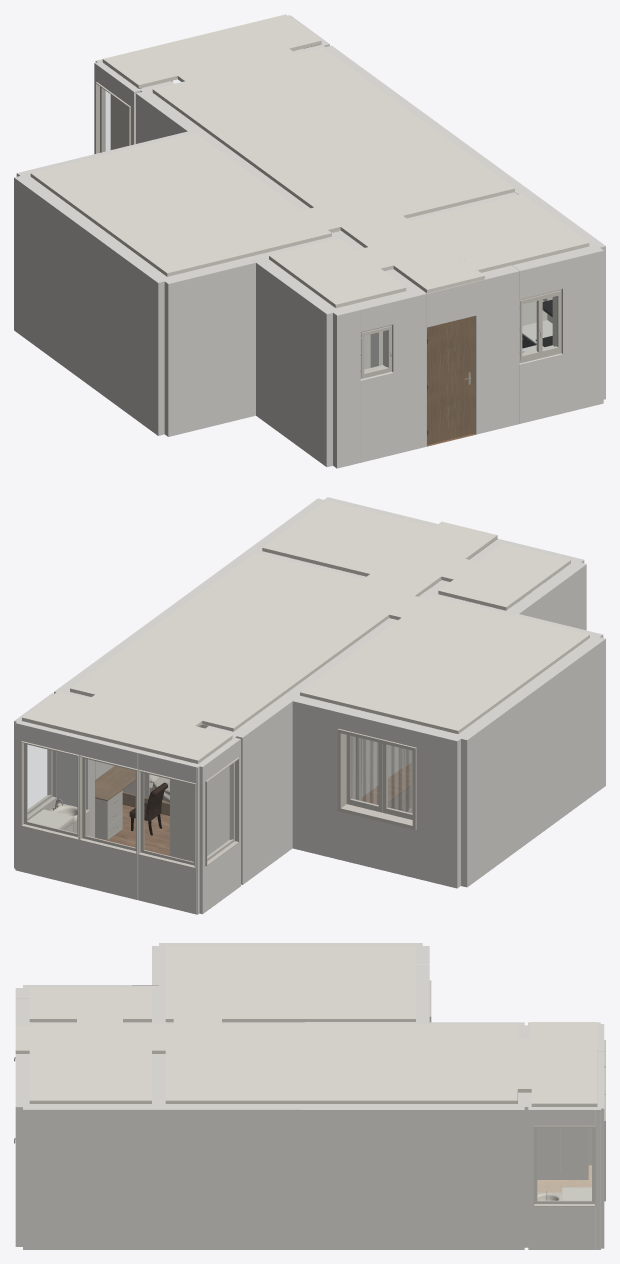
Rendered from apartment-doors-v6.glb.
3 views of the same model, one above another, from view 1: azimuth 30°, elevation 25°; view 2: azimuth 150°, elevation 25°; view 3: azimuth 270°, elevation 25° (orthographic). The views are drawn at different scales.
Parts seen in each view (by area): view 1: Static_bath, Static_master, Ceiling_master, Static_kitchen, Ceiling_second, Ceiling_dining, Ceiling_kitchen, Ceiling_balcony, Static_entry, Ceiling_bath, Ceiling_entry, Static_balcony (+2 smaller); view 2: Static_master, Static_balcony, Ceiling_master, Ceiling_second, Static_second, Ceiling_dining, Ceiling_balcony, Ceiling_kitchen, Ceiling_bath, Static_bath, Ceiling_entry, Static_dining (+1 smaller); view 3: Static_dining, Ceiling_master, Ceiling_second, Static_balcony, Ceiling_dining, Ceiling_kitchen, Ceiling_balcony, Ceiling_bath, Ceiling_entry, Static_kitchen, Static_bath, Static_master (+1 smaller).
Part boxes in pixels (left/top/right/bottom): Static_bath: left=163, top=235, right=426, bottom=468; Static_master: left=14, top=130, right=331, bottom=435; Ceiling_master: left=30, top=133, right=340, bottom=276; Static_kitchen: left=407, top=192, right=603, bottom=434; Ceiling_second: left=152, top=48, right=437, bottom=176; Ceiling_dining: left=268, top=132, right=514, bottom=233; Ceiling_kitchen: left=411, top=194, right=589, bottom=272; Ceiling_balcony: left=102, top=14, right=321, bottom=88; Static_entry: left=346, top=234, right=476, bottom=446; Ceiling_bath: left=269, top=238, right=406, bottom=308; Ceiling_entry: left=345, top=216, right=484, bottom=293; Static_balcony: left=94, top=15, right=329, bottom=153; Static_master: left=287, top=636, right=605, bottom=888; Static_balcony: left=14, top=692, right=240, bottom=914; Ceiling_master: left=300, top=596, right=589, bottom=733; Ceiling_second: left=70, top=607, right=345, bottom=731; Static_second: left=70, top=618, right=401, bottom=884; Ceiling_dining: left=182, top=553, right=418, bottom=649; Ceiling_balcony: left=22, top=692, right=232, bottom=763; Ceiling_kitchen: left=262, top=500, right=433, bottom=576; Ceiling_bath: left=438, top=543, right=570, bottom=610; Static_bath: left=423, top=538, right=603, bottom=637; Ceiling_entry: left=363, top=521, right=497, bottom=595; Static_dining: left=54, top=498, right=429, bottom=779; Static_dining: left=23, top=1022, right=524, bottom=1249; Ceiling_master: left=165, top=945, right=415, bottom=1024; Ceiling_second: left=306, top=1024, right=517, bottom=1103; Static_balcony: left=517, top=1022, right=605, bottom=1249; Ceiling_dining: left=165, top=1024, right=305, bottom=1103; Ceiling_kitchen: left=29, top=1050, right=151, bottom=1103; Ceiling_balcony: left=517, top=1022, right=597, bottom=1106; Ceiling_bath: left=29, top=987, right=151, bottom=1024; Ceiling_entry: left=15, top=1024, right=165, bottom=1053; Static_kitchen: left=14, top=1054, right=165, bottom=1246; Static_bath: left=14, top=946, right=165, bottom=1061; Static_master: left=159, top=943, right=431, bottom=1024.
Bounding box in the file's own units: 6.93 × 2.78 × 10.34.
Materials: 36 (15 with a texture image).
